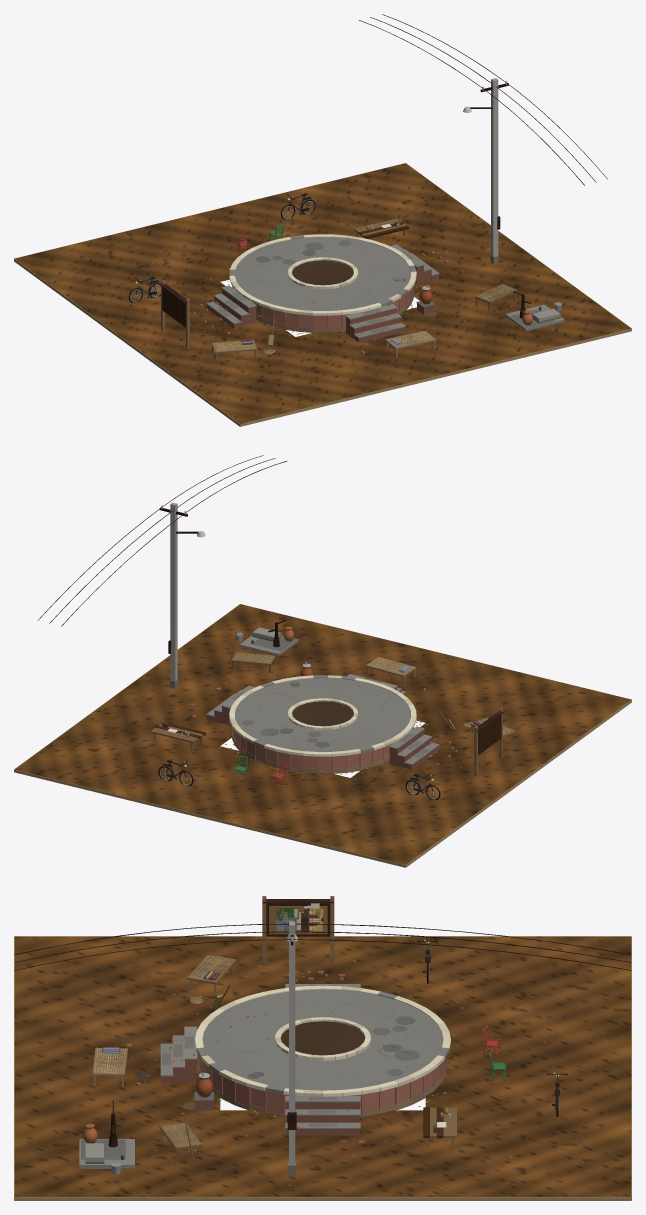
Rendered from chaupal_v2.glb.
3 views of the same model, one above another, from view 1: azimuth 30°, elevation 25°; view 2: azimuth 150°, elevation 25°; view 3: azimuth 270°, elevation 25° (orthographic). The views are drawn at different scales.
Visible parts, largest first — view 1: hb_jute, hb_main, hb_brick, hb_props, hb_metal; view 2: hb_jute, hb_main, hb_brick, hb_props, hb_metal; view 3: hb_jute, hb_main, hb_brick, hb_metal, hb_props, event_poster.
Boxes of the visible parts, box(x1,y1,x2,y2) form: hb_jute: box(15, 163, 630, 423); hb_main: box(14, 78, 631, 426); hb_brick: box(192, 251, 448, 353); hb_props: box(161, 218, 517, 360); hb_metal: box(159, 14, 607, 318); hb_jute: box(14, 604, 630, 864); hb_main: box(14, 502, 631, 867); hb_brick: box(191, 676, 457, 771); hb_props: box(150, 632, 515, 771); hb_metal: box(37, 455, 504, 731); hb_jute: box(14, 936, 631, 1196); hb_main: box(14, 903, 631, 1200); hb_brick: box(126, 971, 446, 1143); hb_metal: box(14, 899, 631, 1159); hb_props: box(92, 896, 456, 1159); event_poster: box(301, 908, 323, 932).
Size of the model in its own units: 20.04 by 9.08 by 20.04.
6 materials, 1 textured.
